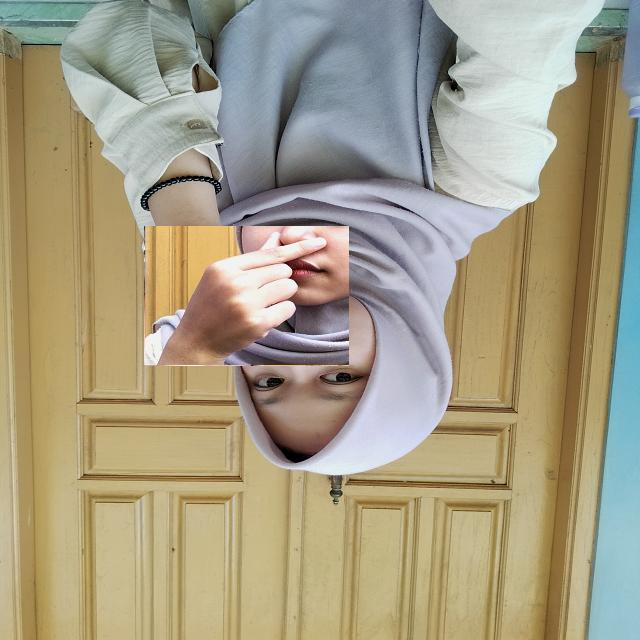bau: (144, 226, 349, 366)
